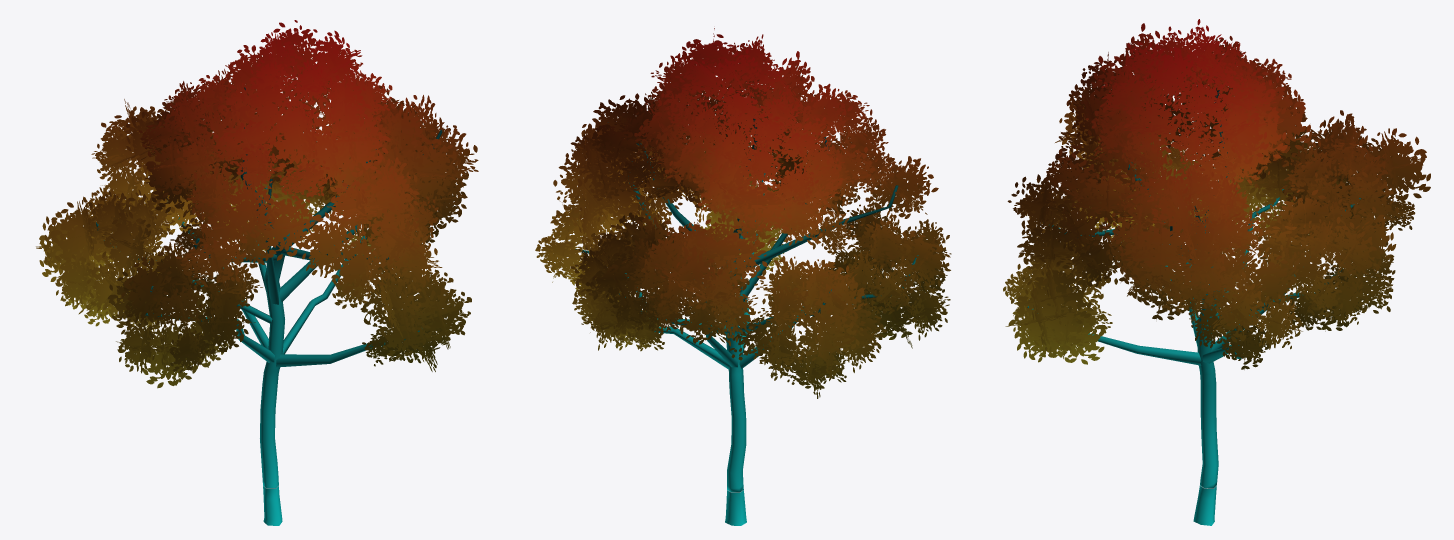
File: V2GenesisBirch2.fbx
The picture shows the model from 3 angles, left to right: view 1: azimuth 30°, elevation 25°; view 2: azimuth 150°, elevation 25°; view 3: azimuth 270°, elevation 25°; orthographic projection. The views are drawn at different scales.
Visible parts, largest first — view 1: BarkAndLeaves, Stump; view 2: BarkAndLeaves, Stump; view 3: BarkAndLeaves, Stump.
Part boxes in pixels (x1,y1,x2,y2): BarkAndLeaves: (36,20,478,488); Stump: (263,485,282,525); BarkAndLeaves: (535,28,951,492); Stump: (725,490,746,525); BarkAndLeaves: (1003,19,1430,488); Stump: (1193,485,1216,525).
Bounding box in the file's own units: 626 × 758 × 608.
